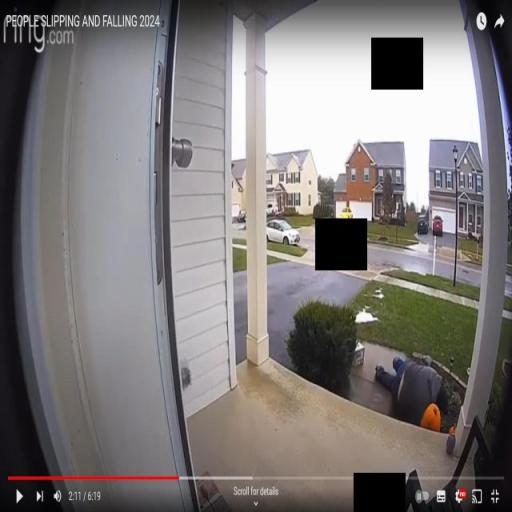Fall: (371, 350, 450, 436)
